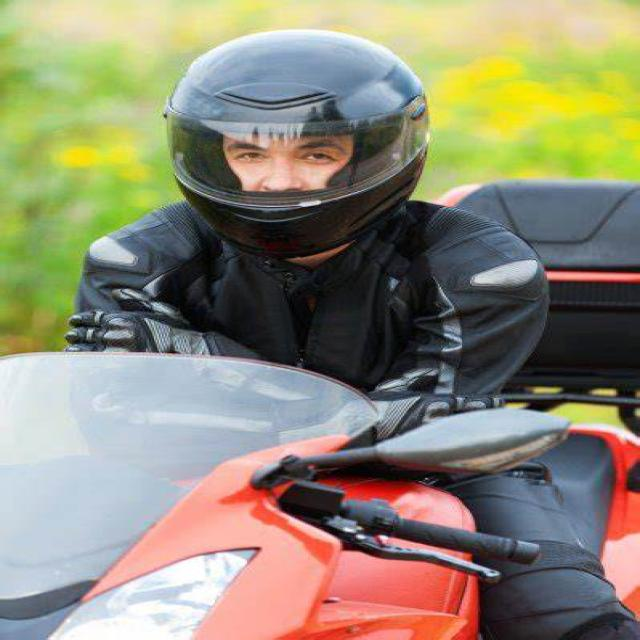helmet: (157, 24, 446, 269)
